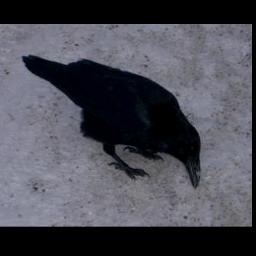Crow: (19, 54, 200, 188)
